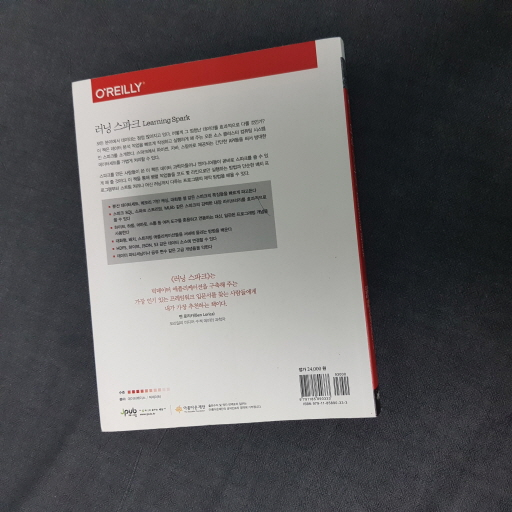Paper_0: (64, 38, 393, 436)
